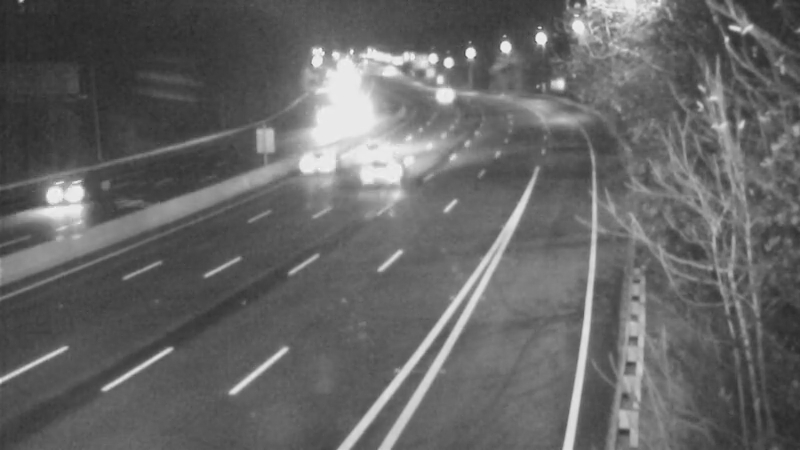vehicle: (284, 123, 364, 203), (343, 131, 423, 211), (34, 153, 114, 233), (412, 68, 462, 118), (342, 124, 392, 174)
